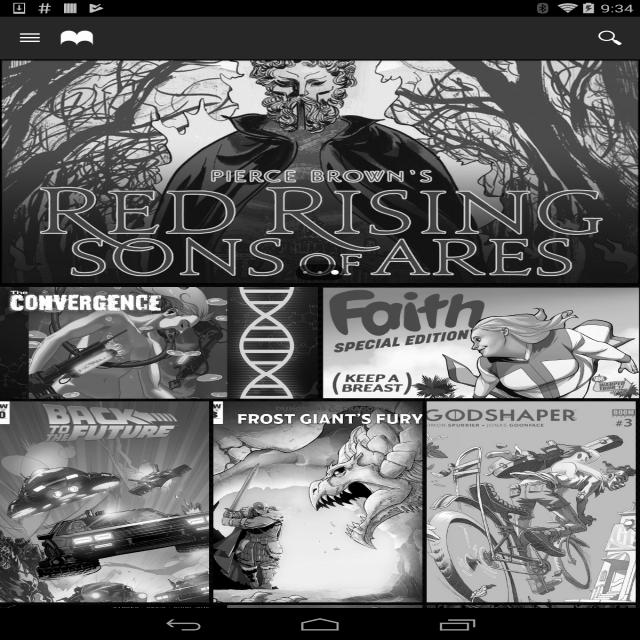ImageButton: (0, 30, 60, 46)
ImageView: (0, 59, 640, 284), (0, 402, 209, 602), (427, 402, 636, 602), (214, 402, 422, 602), (0, 287, 318, 399), (322, 287, 640, 399), (0, 605, 209, 640), (427, 605, 636, 640), (214, 605, 422, 640), (60, 27, 94, 49)
TextView: (580, 22, 640, 54)
